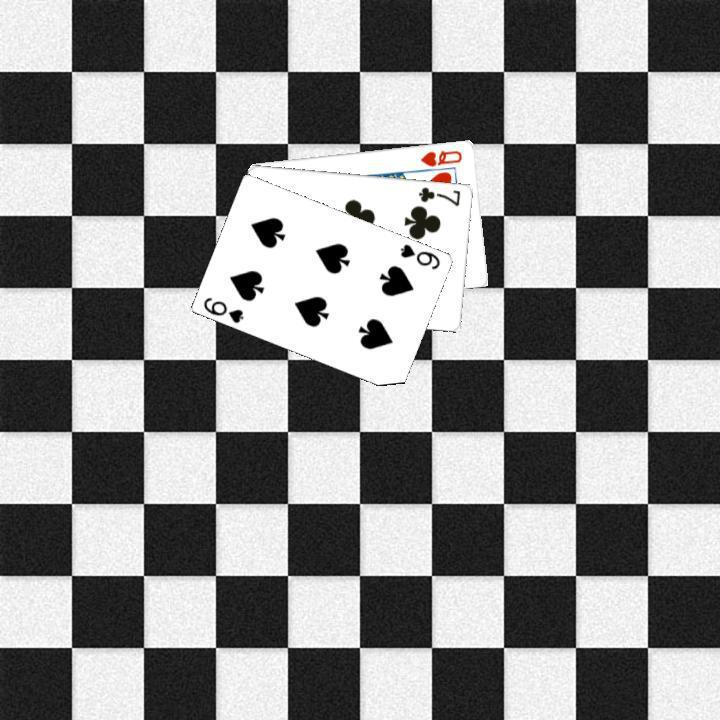6: (199, 293, 246, 325), (396, 239, 442, 271)
7: (415, 182, 463, 208)
Q: (417, 146, 464, 168)
